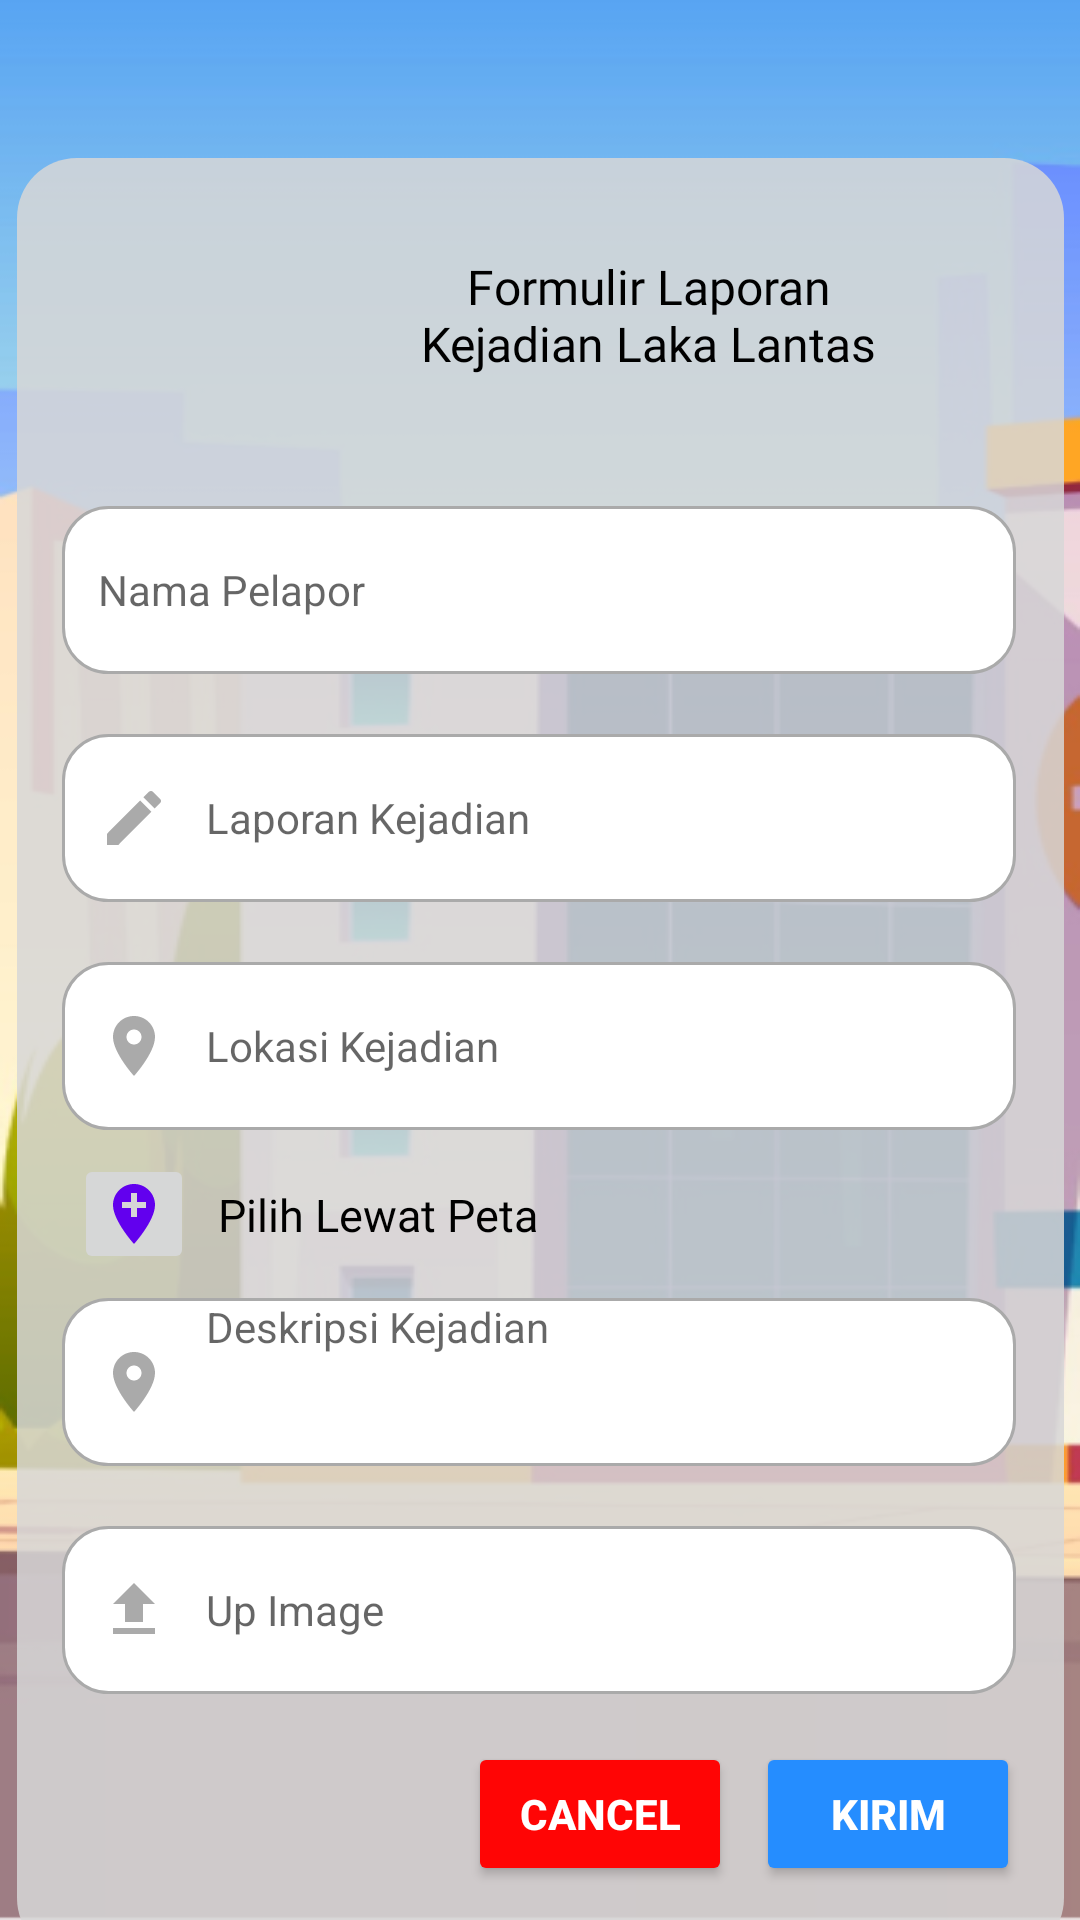

Screen size 1080 x 1920. Icon name, then its box in pixels as (x1=x1, y1=y1, x2=x2, y2=y2):
add location: (x1=86, y1=1172, x2=182, y2=1256)
